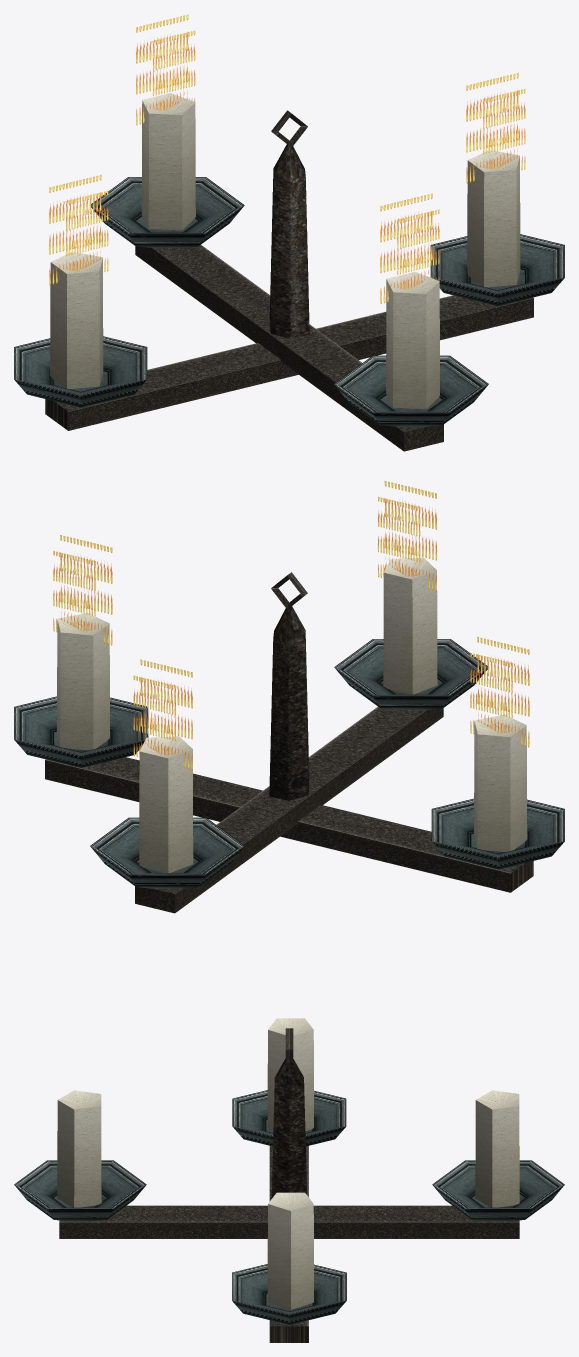
File: mm9_deco_chandelier3orange.glb
3 views of the same model, one above another, from view 1: azimuth 30°, elevation 25°; view 2: azimuth 150°, elevation 25°; view 3: azimuth 270°, elevation 25° (orthographic). The views are drawn at different scales.
Parts seen in each view (by area): view 1: Chandelier3; view 2: Chandelier3; view 3: Chandelier3.
Boxes of the visible parts, x1,y1,x2,y2 form: Chandelier3: (14, 14, 564, 451); Chandelier3: (14, 481, 564, 913); Chandelier3: (14, 1018, 564, 1342).
Bounding box in the file's own units: 1.63 × 0.7197 × 1.65.
Materials: 3 (3 with a texture image).
